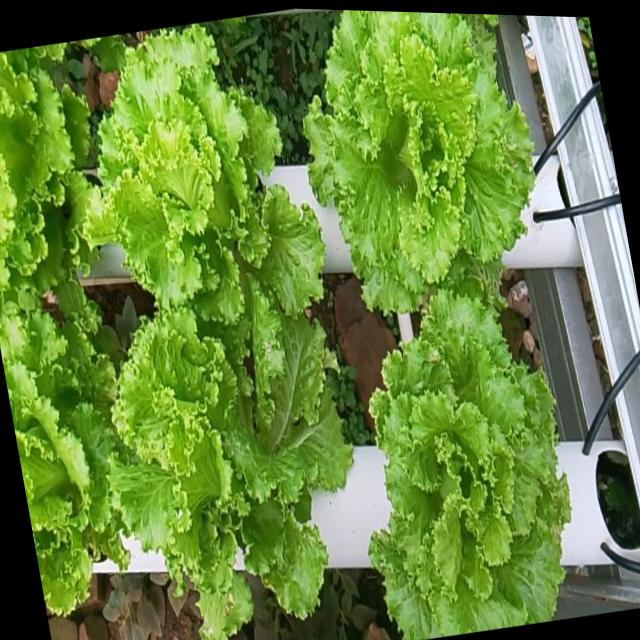Mature: (102, 318, 346, 640), (73, 31, 314, 331), (292, 10, 523, 320), (358, 293, 561, 640)
